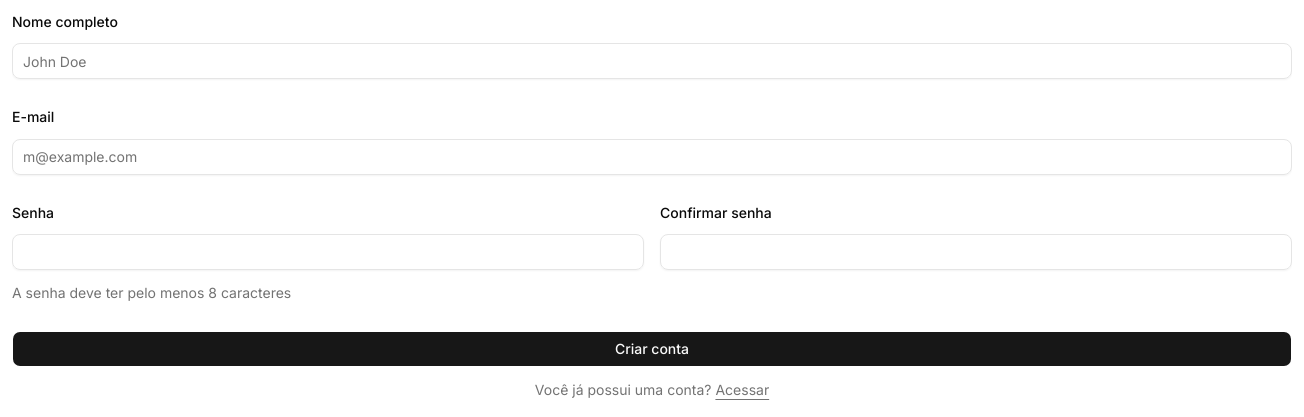
Test: SignupForm › shows validation error for single name (no surname)
Type "John" into the field labelled "Nome completo".
click(652, 61); type("John")  # box [12, 43, 1292, 79]
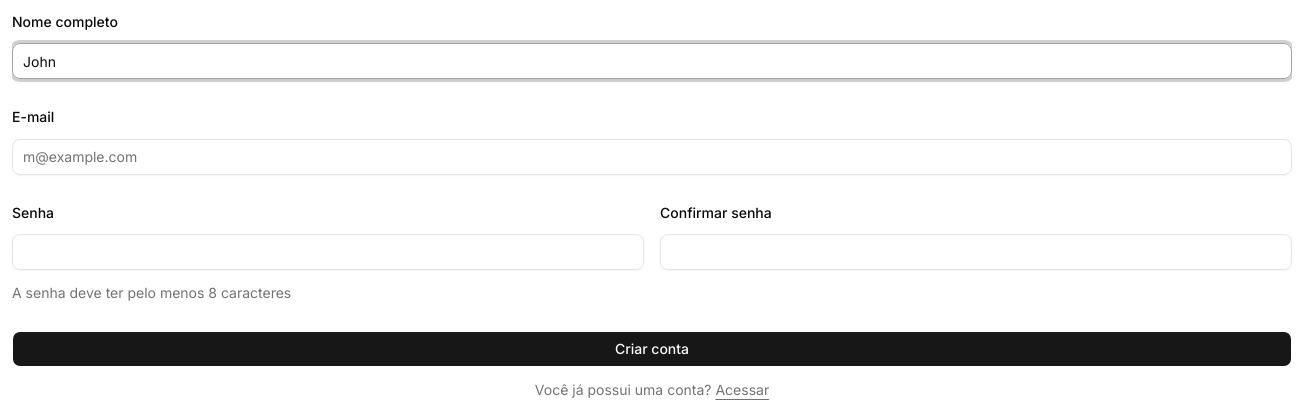
Type "test@example.com" into the field labelled "E-mail".
click(652, 156); type("test@example.com")  # box [12, 138, 1292, 174]
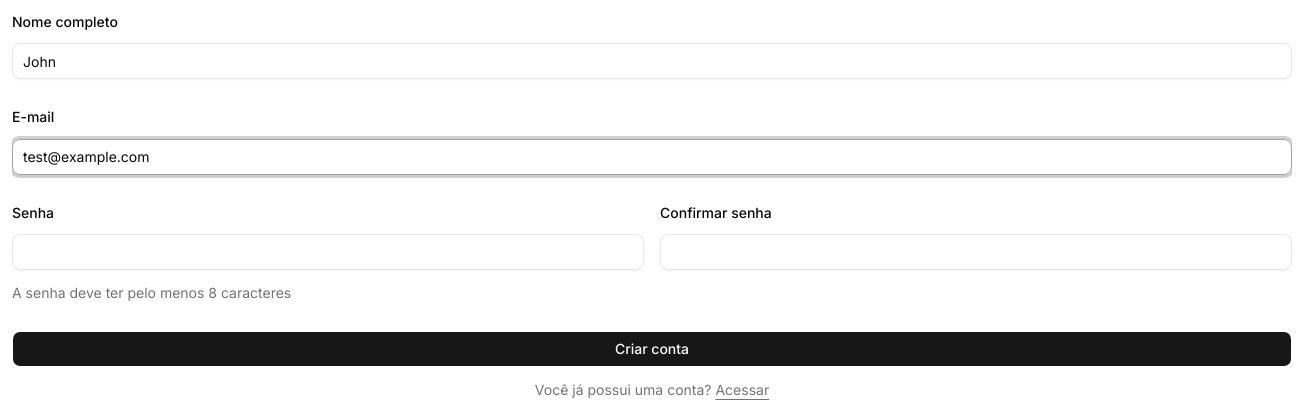
Type "12345678" into the password field labelled "Senha".
click(328, 252); type("12345678")  # box [12, 234, 644, 270]
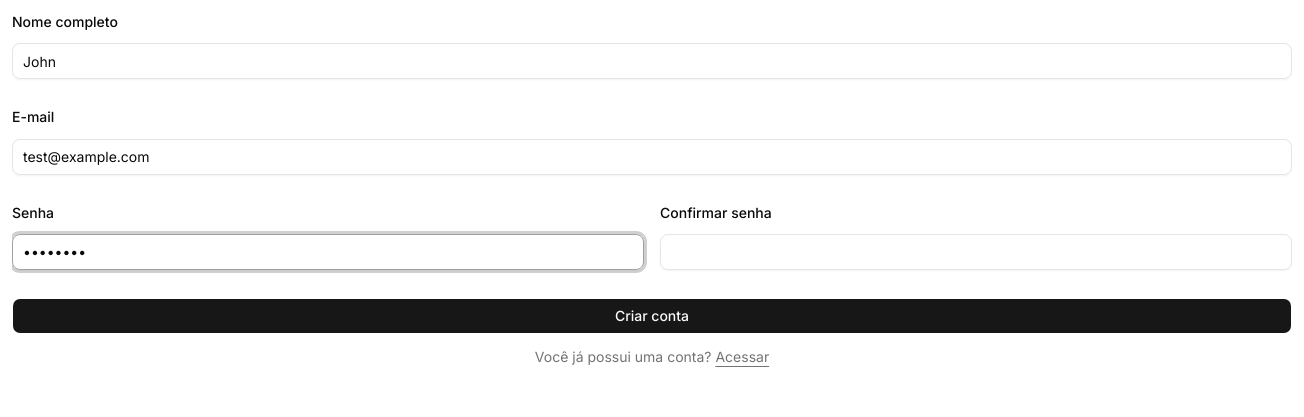
Type "12345678" into the password field labelled "Confirmar senha".
click(976, 252); type("12345678")  # box [660, 234, 1292, 270]
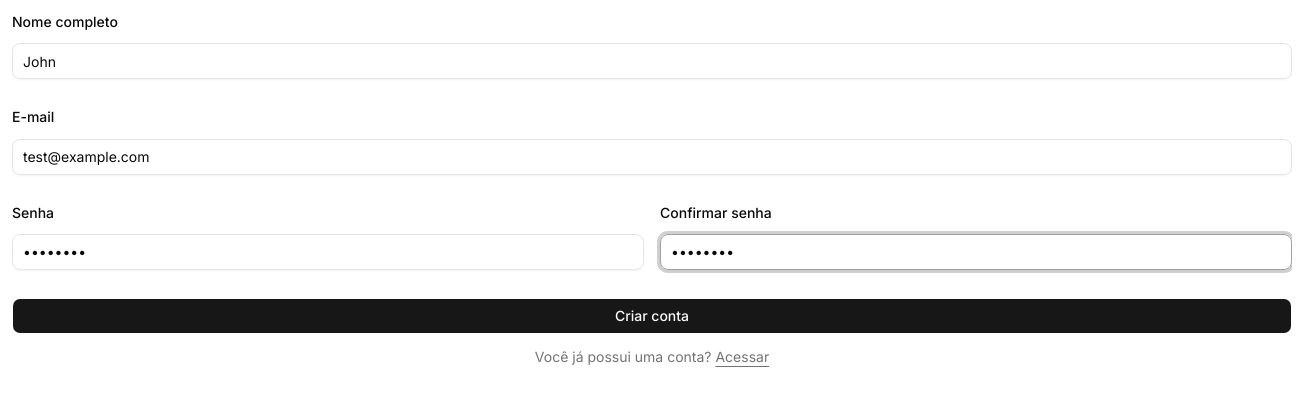
Click the button "Criar conta".
click(652, 316)  # box [12, 298, 1292, 334]
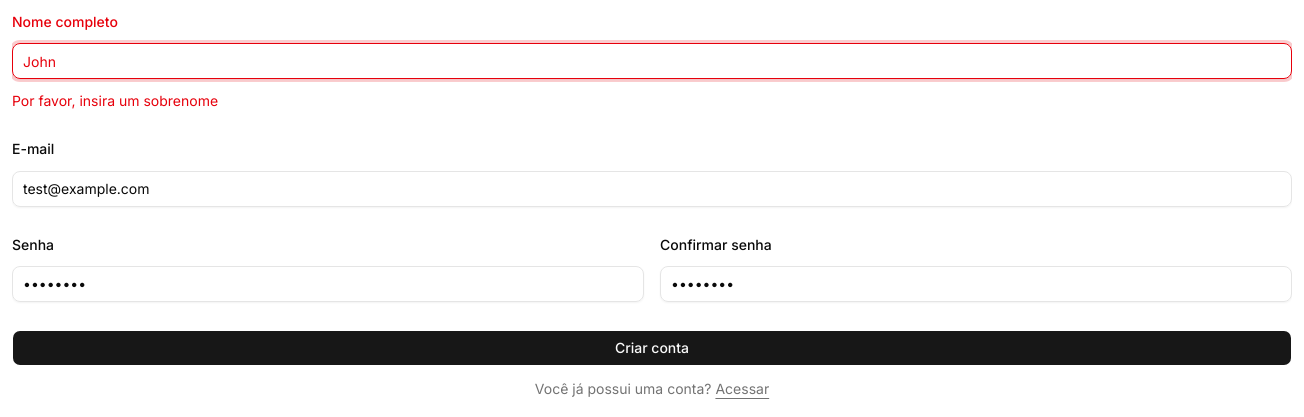
Now the text "Por favor, insira um sobrenome" is shown, box [12, 92, 218, 109]
